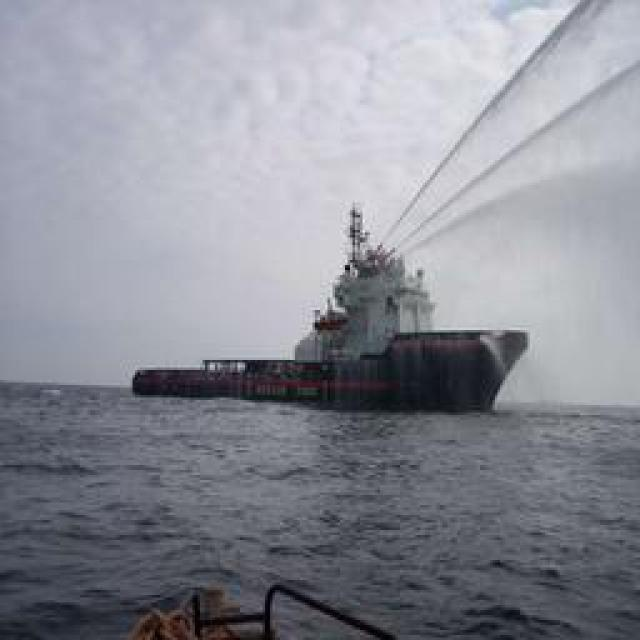Ship: (124, 251, 547, 411)
